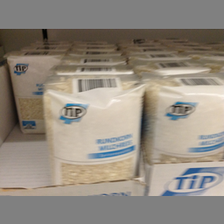rice: (42, 74, 144, 183), (142, 70, 224, 164), (4, 49, 64, 134)
